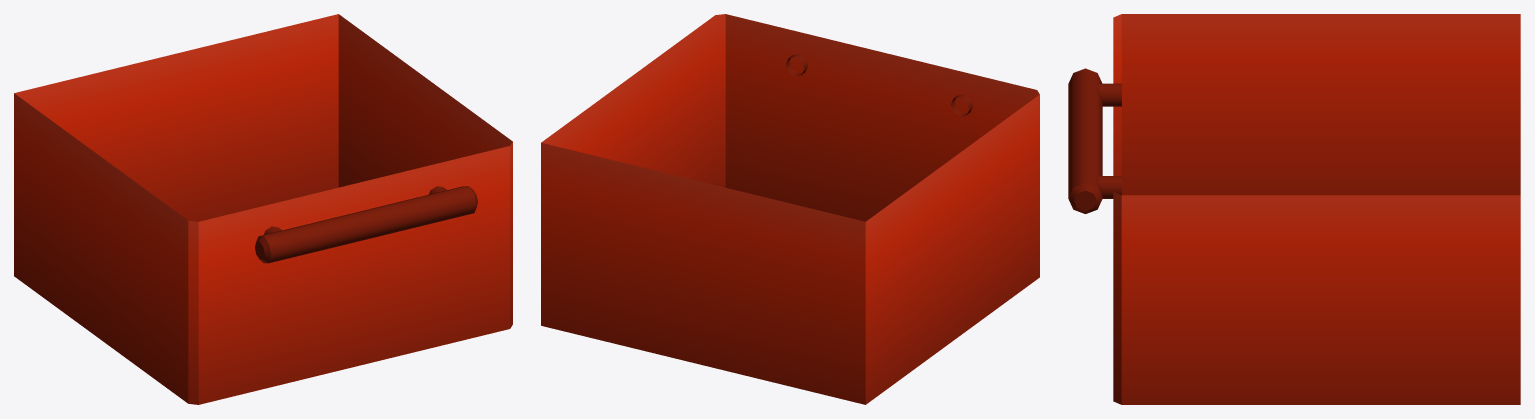
The model's file is Counter_01_v03_C04.fbx.
3 renders of one model, left to right at view 1: azimuth 30°, elevation 25°; view 2: azimuth 150°, elevation 25°; view 3: azimuth 270°, elevation 25°, orthographic. The views are drawn at different scales.
Parts seen in each view (by area): view 1: Counter_01_v03_C04; view 2: Counter_01_v03_C04; view 3: Counter_01_v03_C04.
Boxes of the visible parts, bbox=[...] form: Counter_01_v03_C04: bbox=[14, 14, 512, 404]; Counter_01_v03_C04: bbox=[541, 14, 1039, 404]; Counter_01_v03_C04: bbox=[1068, 14, 1520, 404].
Bounding box in the file's own units: 100 × 53.91 × 105.
